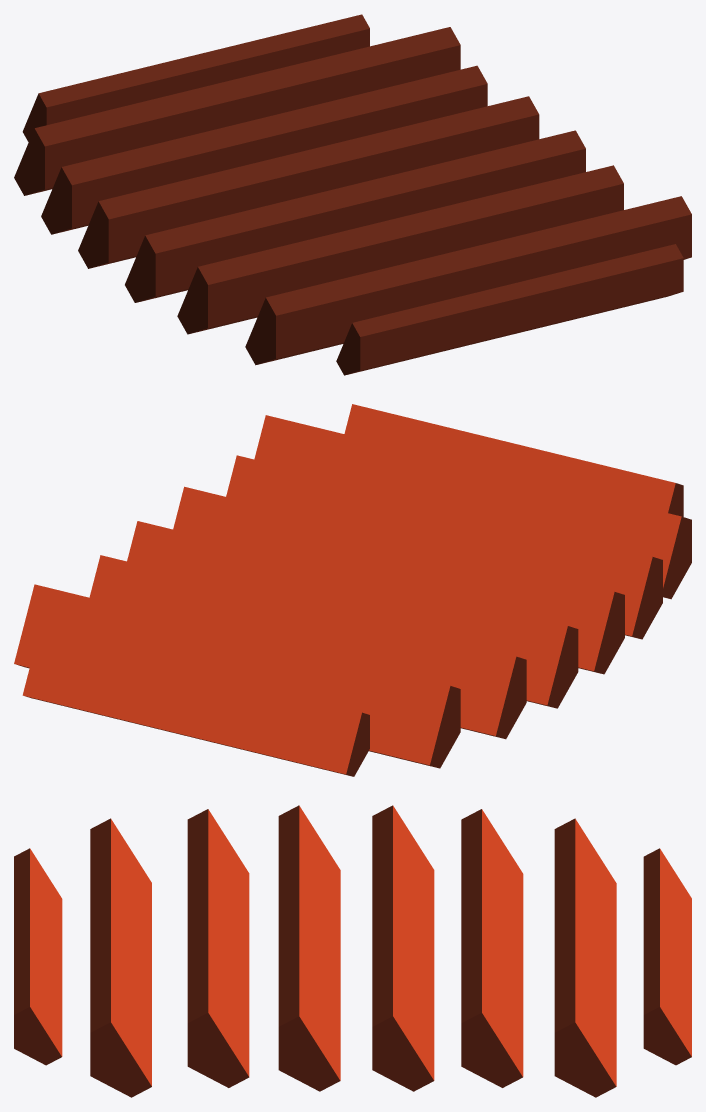
File: campfire_complete_woods.obj
3 renders of one model, top to bottom at view 1: azimuth 30°, elevation 25°; view 2: azimuth 150°, elevation 25°; view 3: azimuth 270°, elevation 25°, orthographic.
Parts seen in each view (by area): view 1: campfire_complete_woods_Cylinder.014; view 2: campfire_complete_woods_Cylinder.014; view 3: campfire_complete_woods_Cylinder.014.
Boxes of the visible parts, x1,y1,x2,y2 form: campfire_complete_woods_Cylinder.014: [14, 14, 691, 375]; campfire_complete_woods_Cylinder.014: [14, 404, 691, 776]; campfire_complete_woods_Cylinder.014: [14, 805, 691, 1097].
Bounding box in the file's own units: 1.02 × 0.1663 × 1.35.
